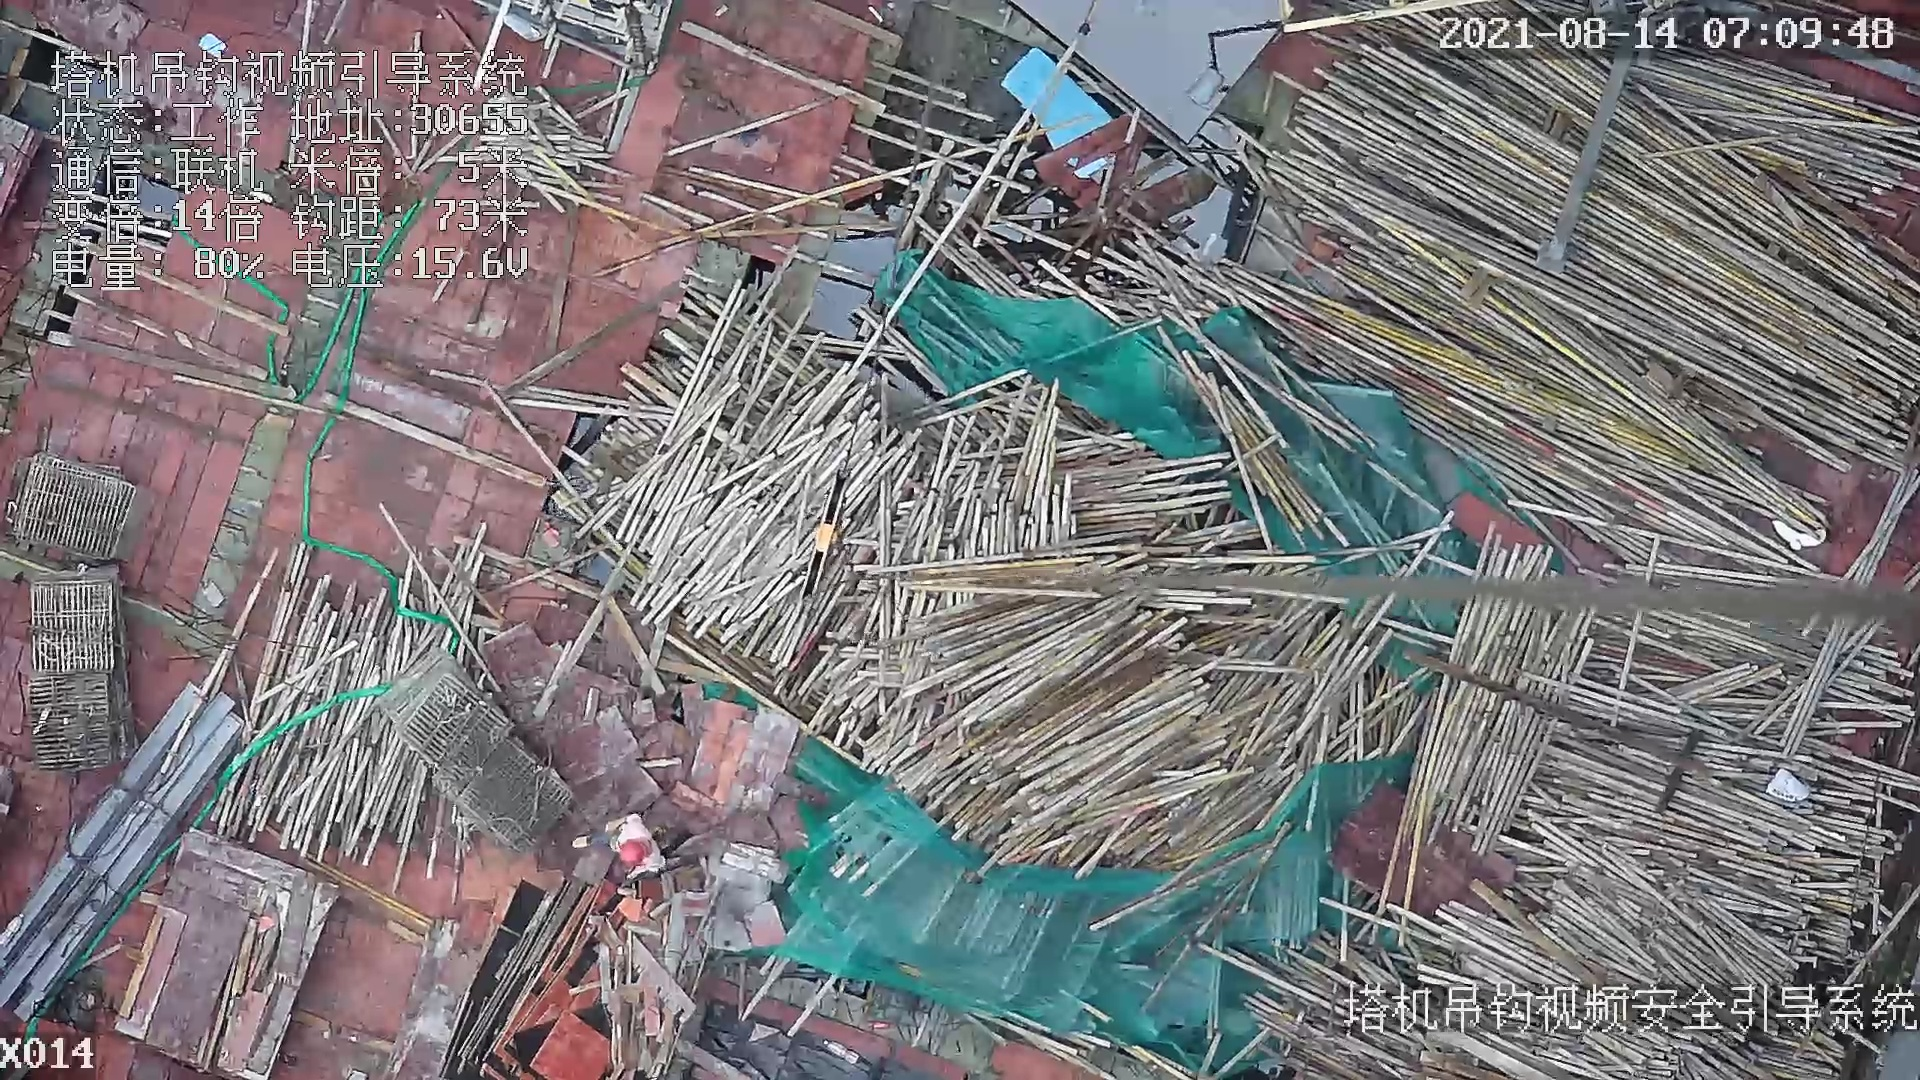helmet: (620, 842, 647, 864)
hook: (797, 463, 854, 606)
person: (578, 815, 678, 882)
